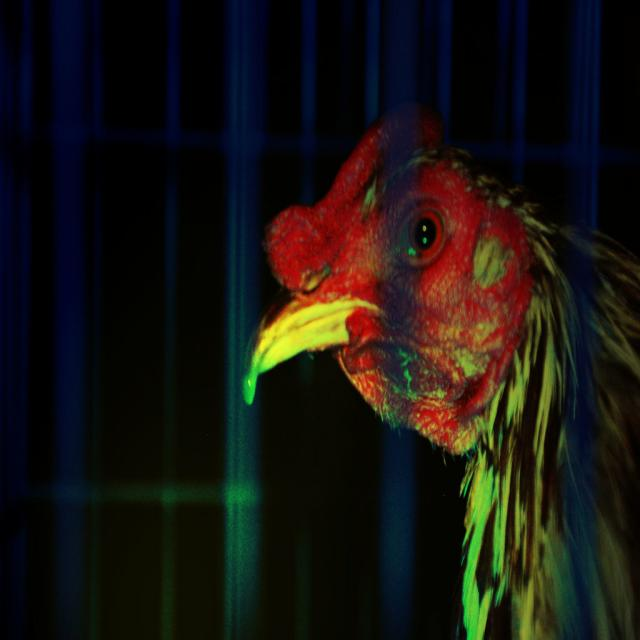Chicken: (251, 109, 640, 617)
